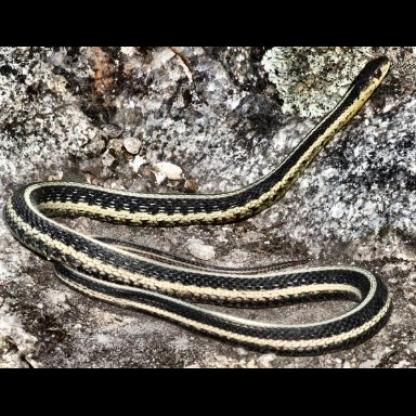Snake: (11, 56, 396, 349)
